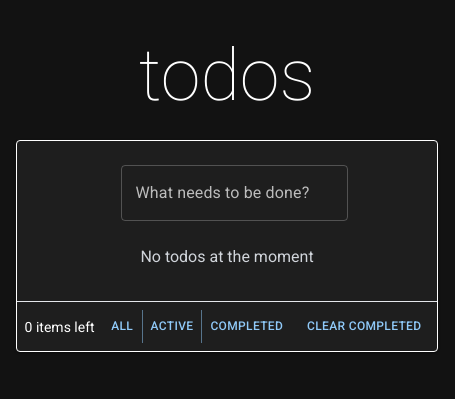
Test case: Tasks tests › Check filter of active tasks
Type "First task" into the field with test id "input-task" at point(235, 193), box 122,165 -> 348,221
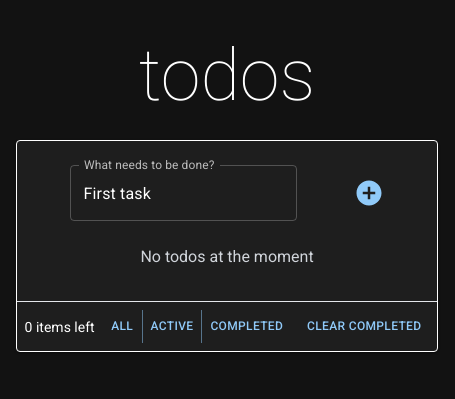
Click the button with test id "add-button" at point(369, 193), box 346,170 -> 392,216
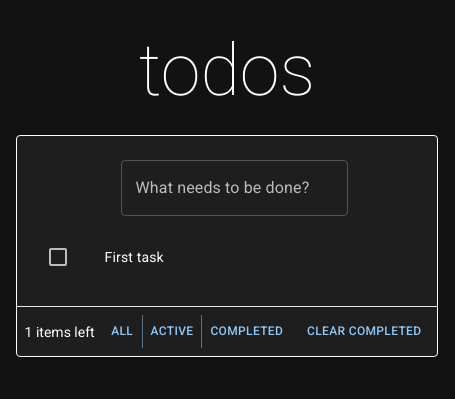
Type "Second task" into the field with test id "input-task" at point(235, 188), box 122,160 -> 348,216
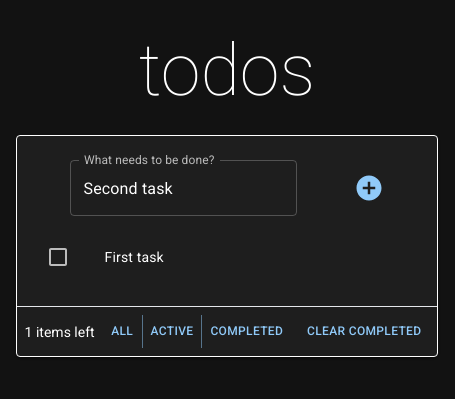
Click the button with test id "add-button" at point(369, 188), box 346,165 -> 392,211
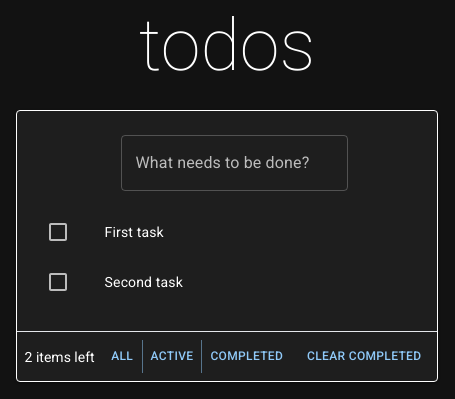
Click the checkbox labelled "First task" at point(58, 232), box 46,220 -> 70,244
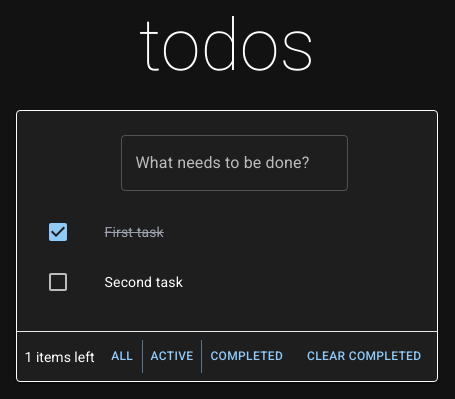
Click the button with test id "active-btn" at point(172, 356), box 143,340 -> 202,373
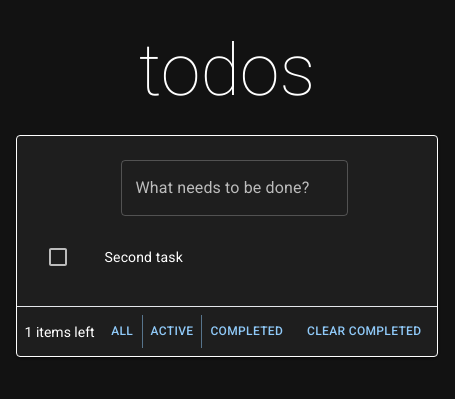
Expected: the text "Second task" is shown, 105,249 -> 183,265
Expected: the button "First task" is gone
